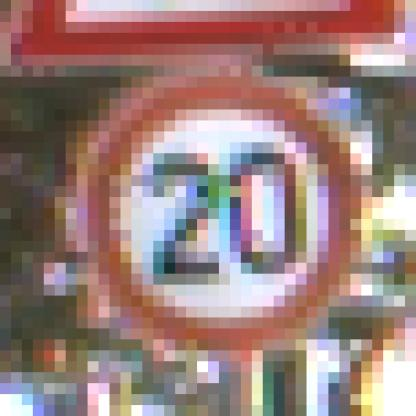Speed Limit 20: (95, 80, 350, 336)
